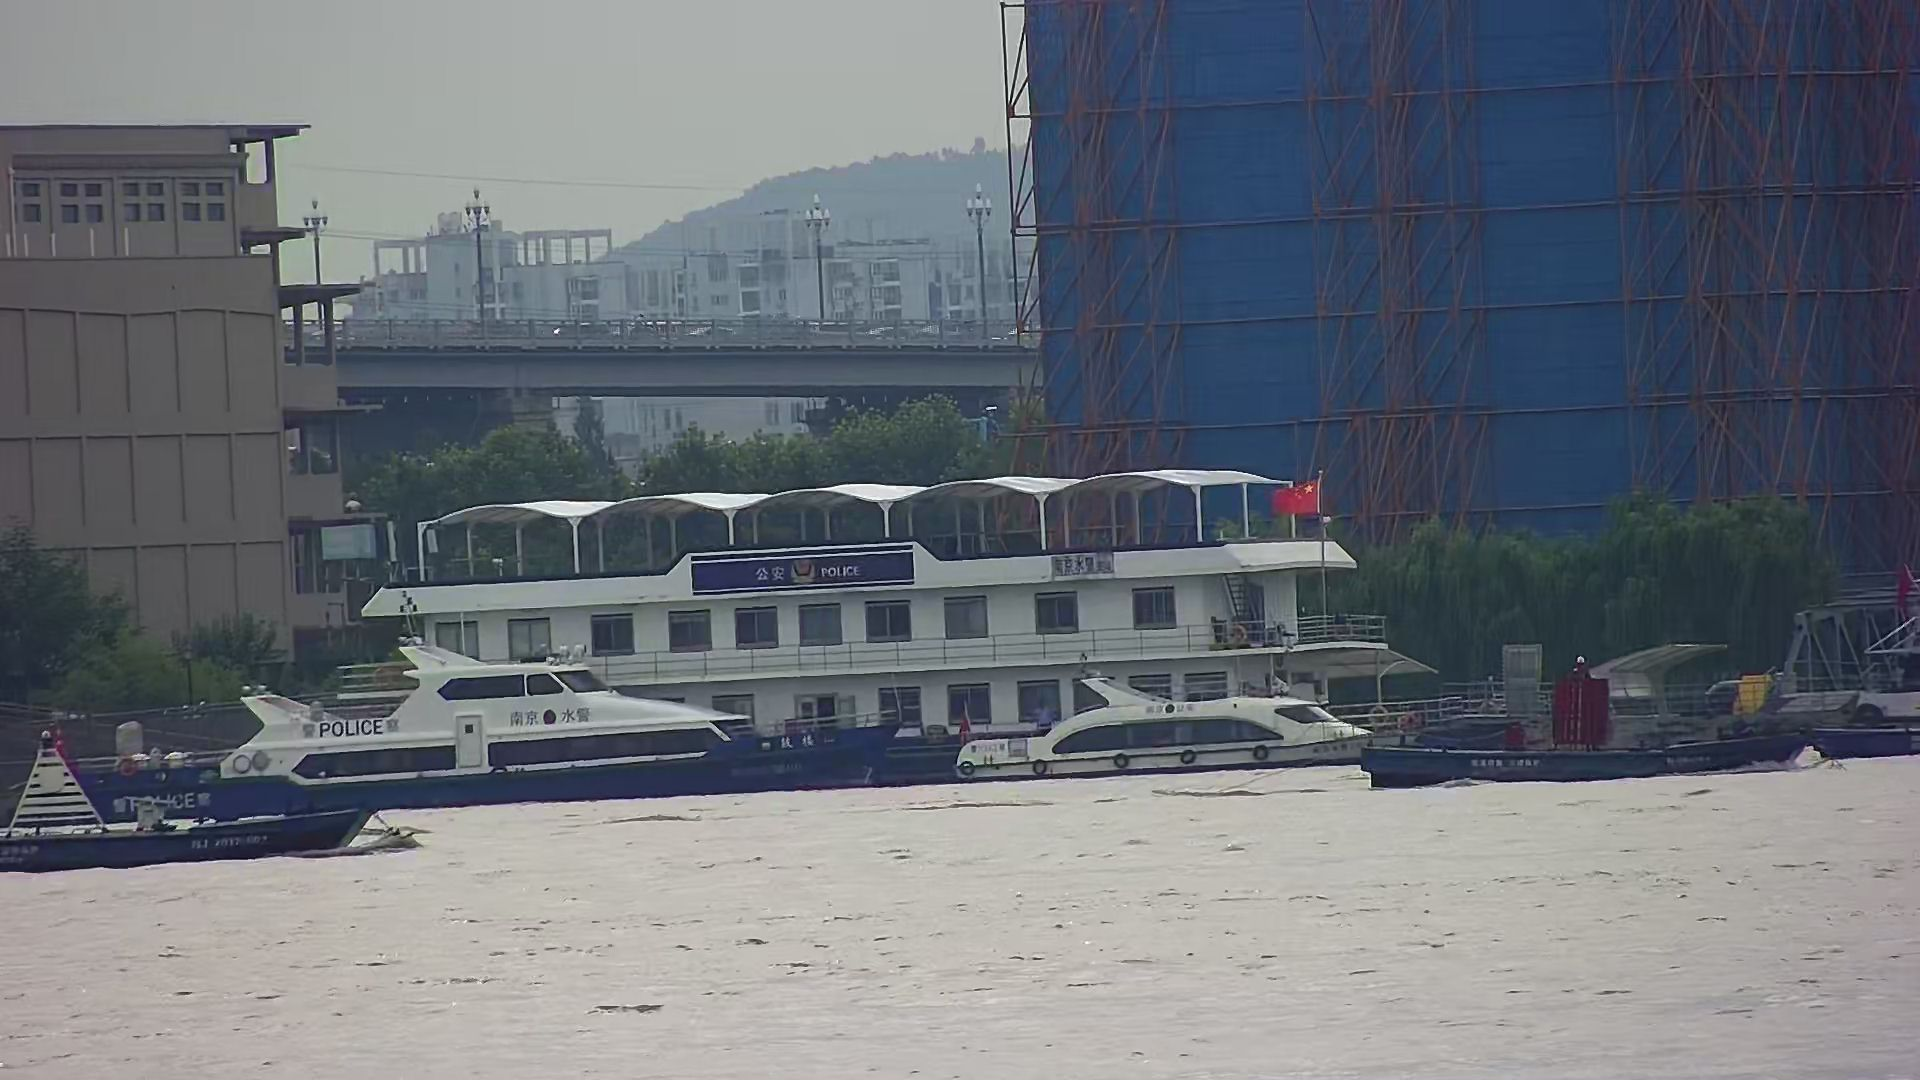boat: (36, 713, 919, 823), (211, 637, 757, 785), (939, 669, 1400, 781), (1, 790, 443, 876), (1349, 709, 1811, 791)
